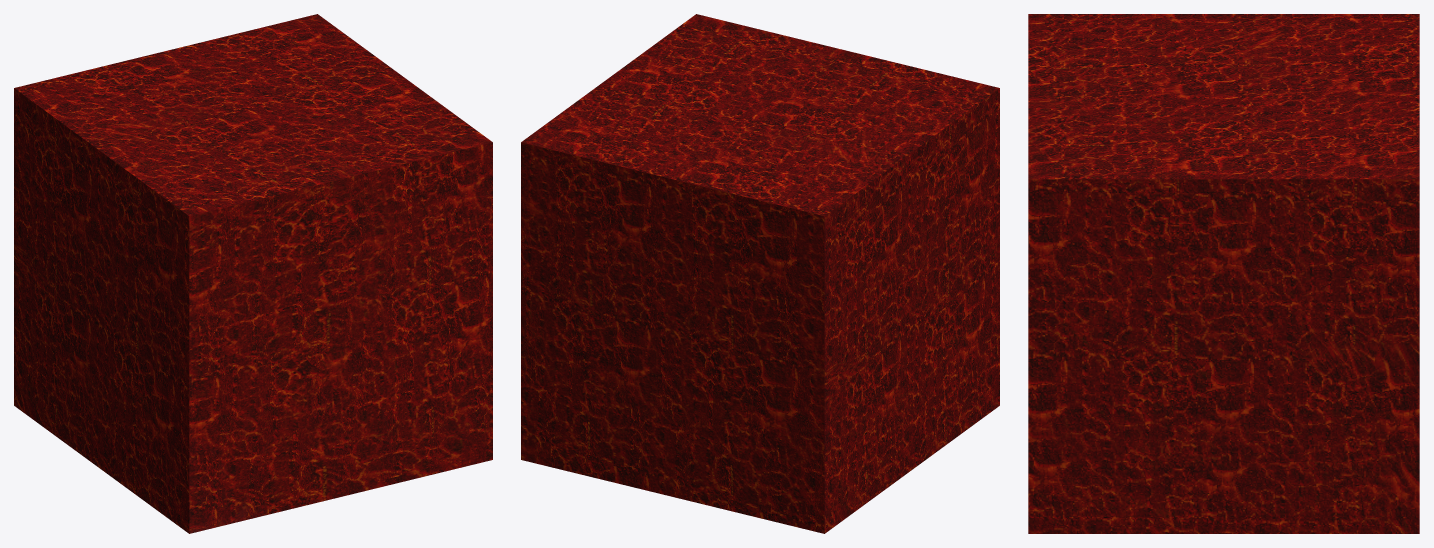
Rendered from lava.glb.
3 renders of one model, left to right at view 1: azimuth 30°, elevation 25°; view 2: azimuth 150°, elevation 25°; view 3: azimuth 270°, elevation 25°, orthographic. The views are drawn at different scales.
Parts seen in each view (by area): view 1: Block_Grass; view 2: Block_Grass; view 3: Block_Grass.
Part boxes in pixels (box(x1,y1,x2,y2)): Block_Grass: box(14, 14, 492, 533); Block_Grass: box(521, 14, 999, 533); Block_Grass: box(1028, 14, 1419, 533).
Size of the model in its own units: 2 by 2 by 2.
Materials: 1 (1 with a texture image).
